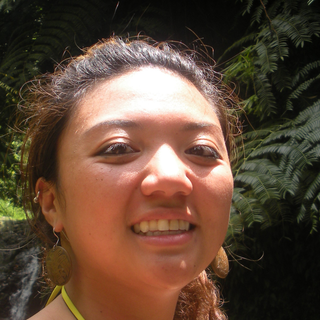eye: (177, 138, 225, 164), (91, 138, 138, 163)
